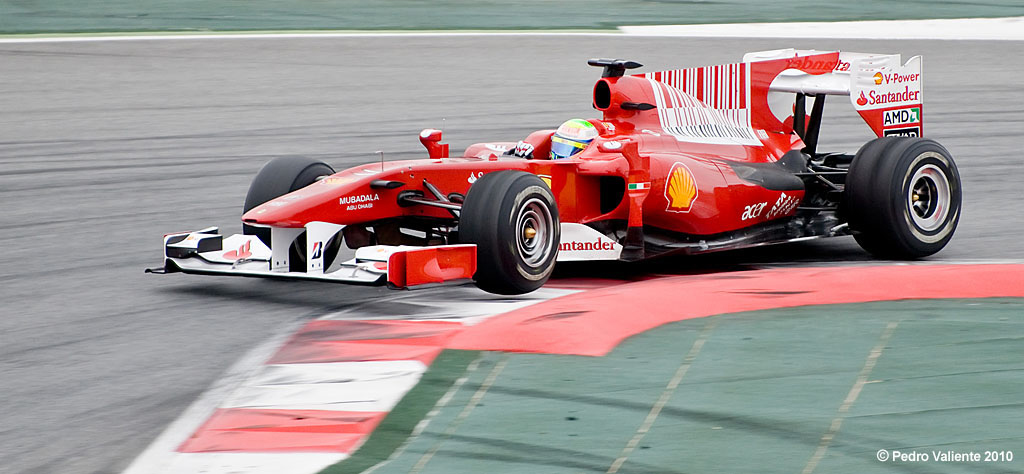F1 Car: (137, 45, 967, 310)
